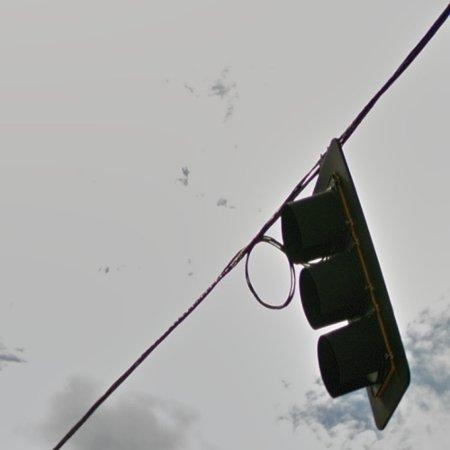traffic lights: (277, 136, 411, 432)
